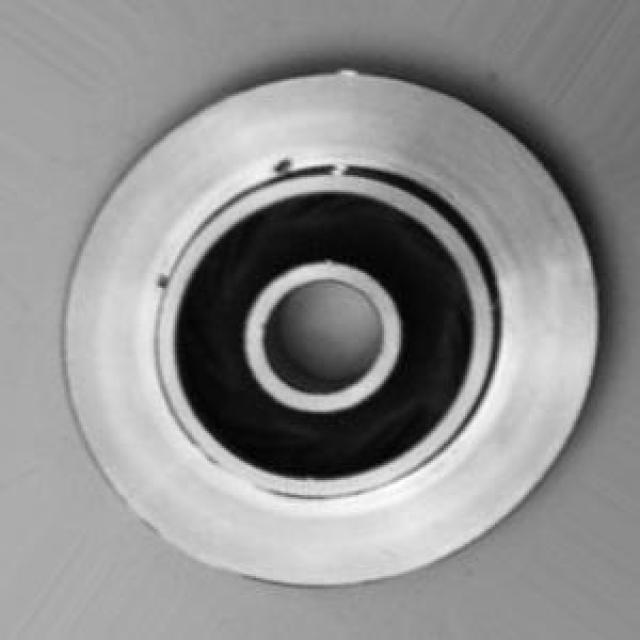Defect: (146, 262, 176, 298)
